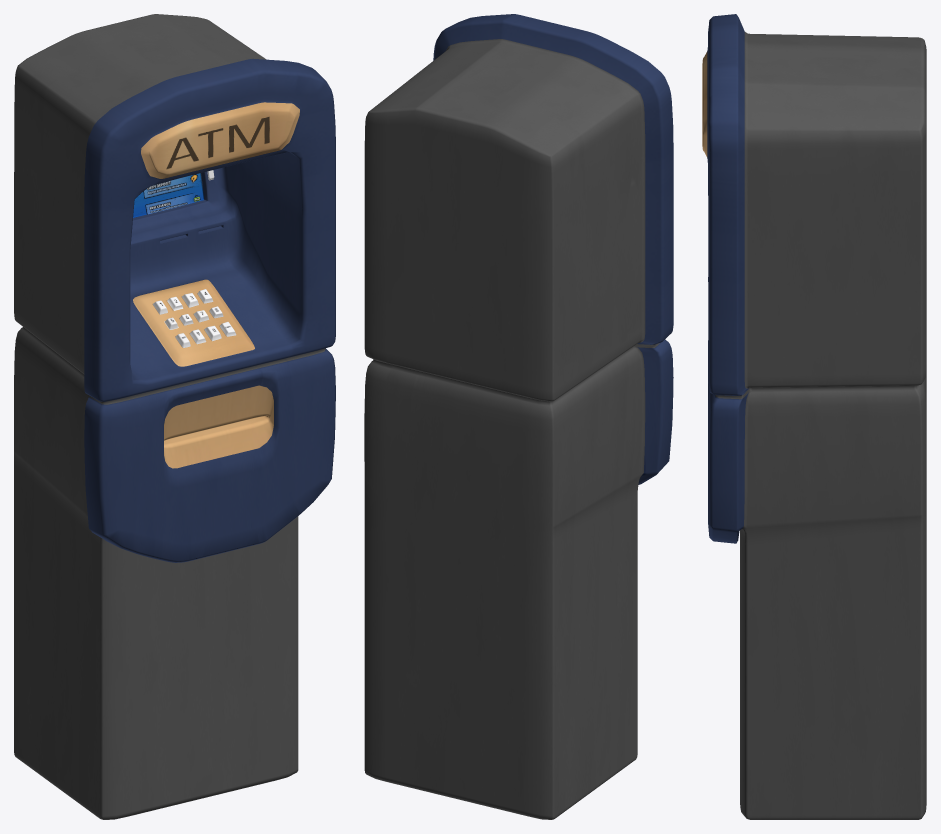
Rendered from atm.glb.
3 views of the same model, side by side, from view 1: azimuth 30°, elevation 25°; view 2: azimuth 150°, elevation 25°; view 3: azimuth 270°, elevation 25° (orthographic). The views are drawn at different scales.
Parts seen in each view (by area): view 1: ATM_HighRes2; view 2: ATM_HighRes2; view 3: ATM_HighRes2.
Part boxes in pixels (bbox=[...]): ATM_HighRes2: bbox=[14, 14, 335, 819]; ATM_HighRes2: bbox=[364, 14, 673, 819]; ATM_HighRes2: bbox=[702, 14, 926, 819].
Size of the model in its own units: 526 by 1521 by 423.
6 materials, 6 textured.
